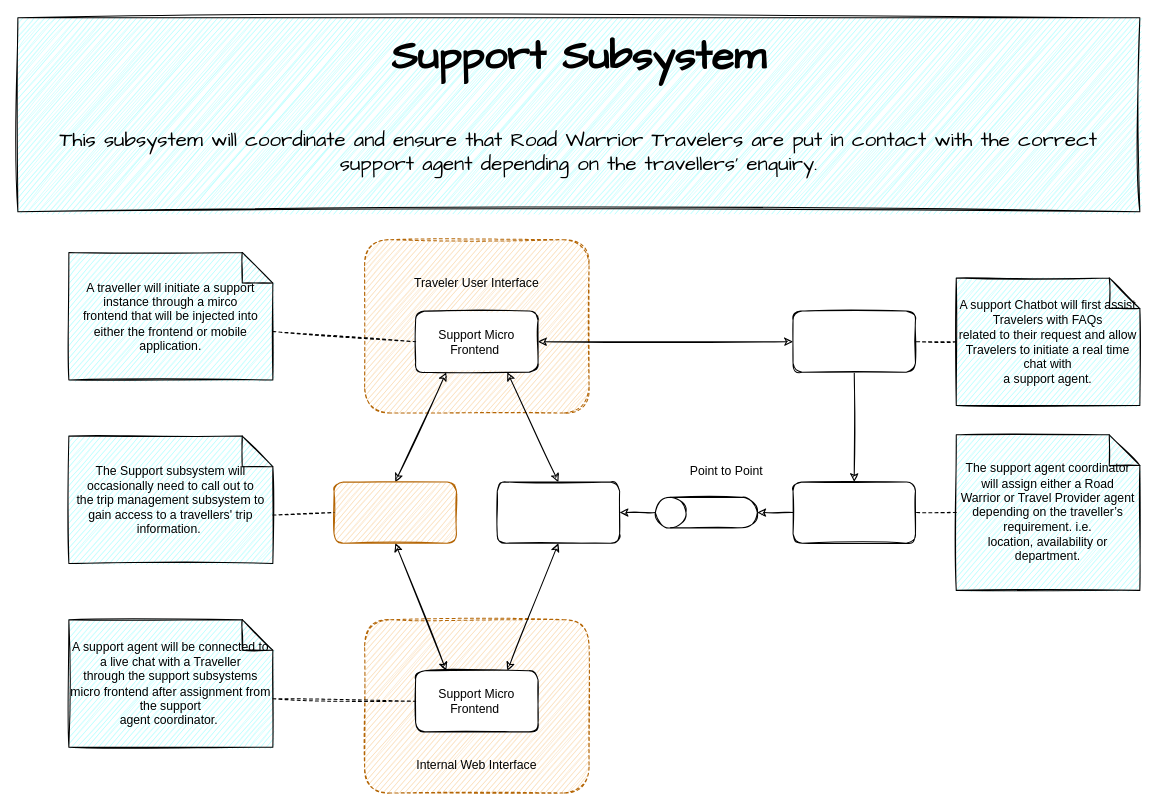
The diagram is 1158 pixels wide and 811 high, and some of its shapes have lost their labels. The box of each missing label's shape, as (x1, y1, x2, y2) in pixels:
FAQ Chatbot: (792, 310, 915, 372)
Real time chat system API: (496, 481, 620, 543)
Support Agent Coordinator: (792, 481, 915, 543)
Trip Managenent Subsystem: (333, 481, 456, 543)
